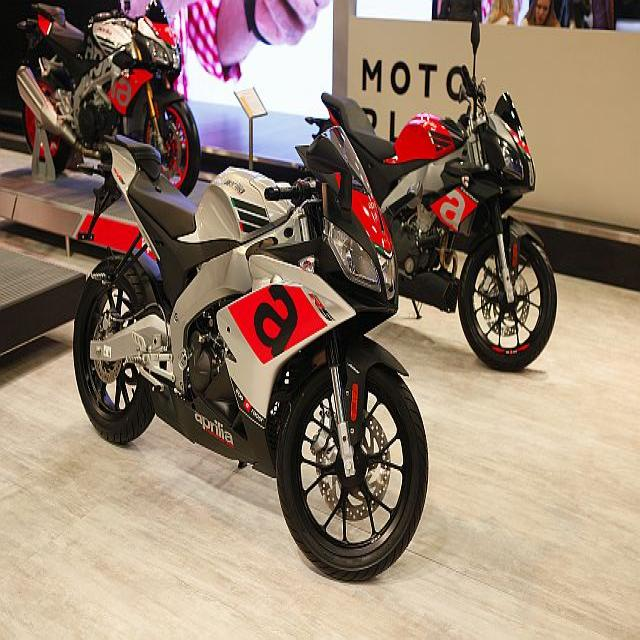motorcycle: (74, 127, 428, 580), (325, 66, 556, 371), (16, 0, 200, 194)
